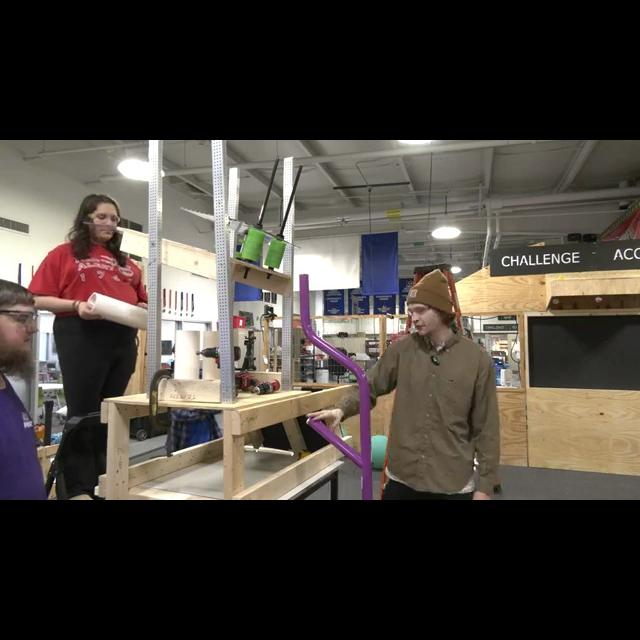CORAL: (84, 290, 148, 330), (176, 330, 200, 378)
